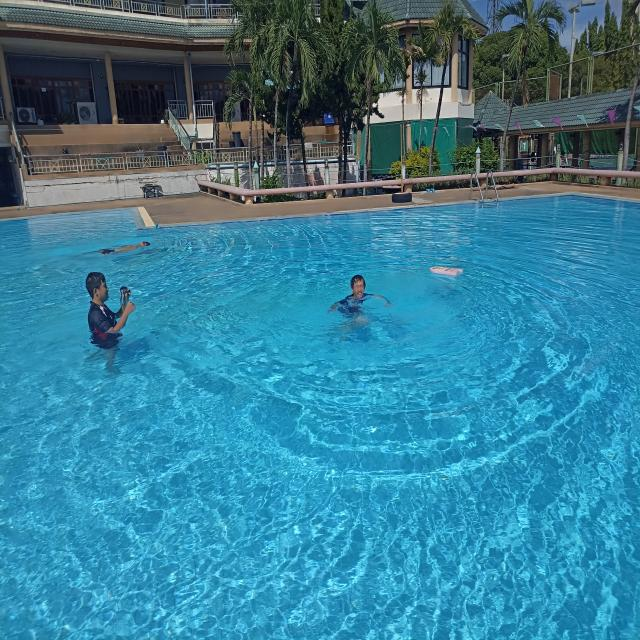Swimming: (82, 268, 137, 350), (328, 268, 394, 328), (75, 235, 154, 256)
